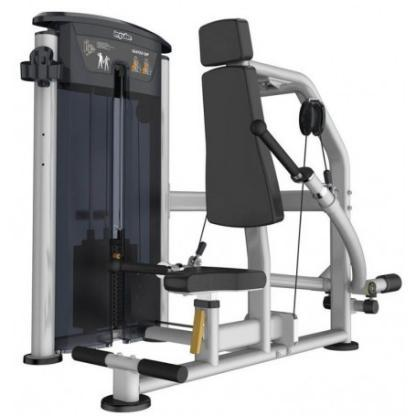seated dip machine: (21, 10, 402, 412)
